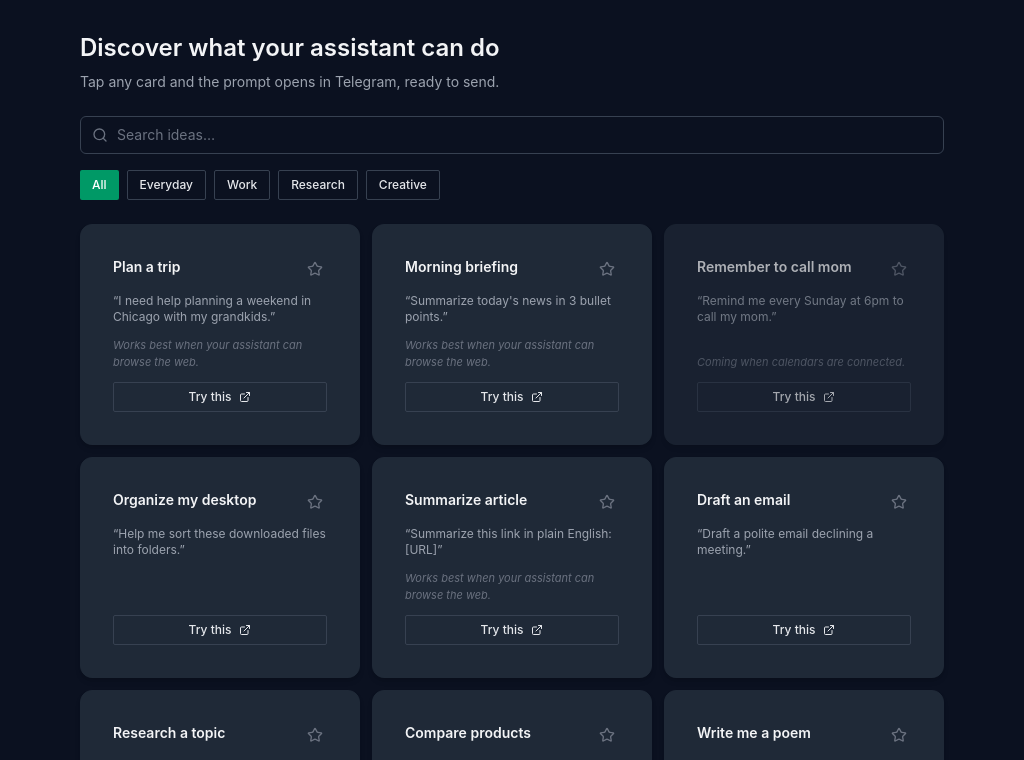
Scenario: Discover › a non-matching search shows the empty state
The image size is (1024, 760).
Type "zzz-no-such-idea-zzz" into the search field labelled "Search ideas…" at point(512, 135), box [80,116,944,154]
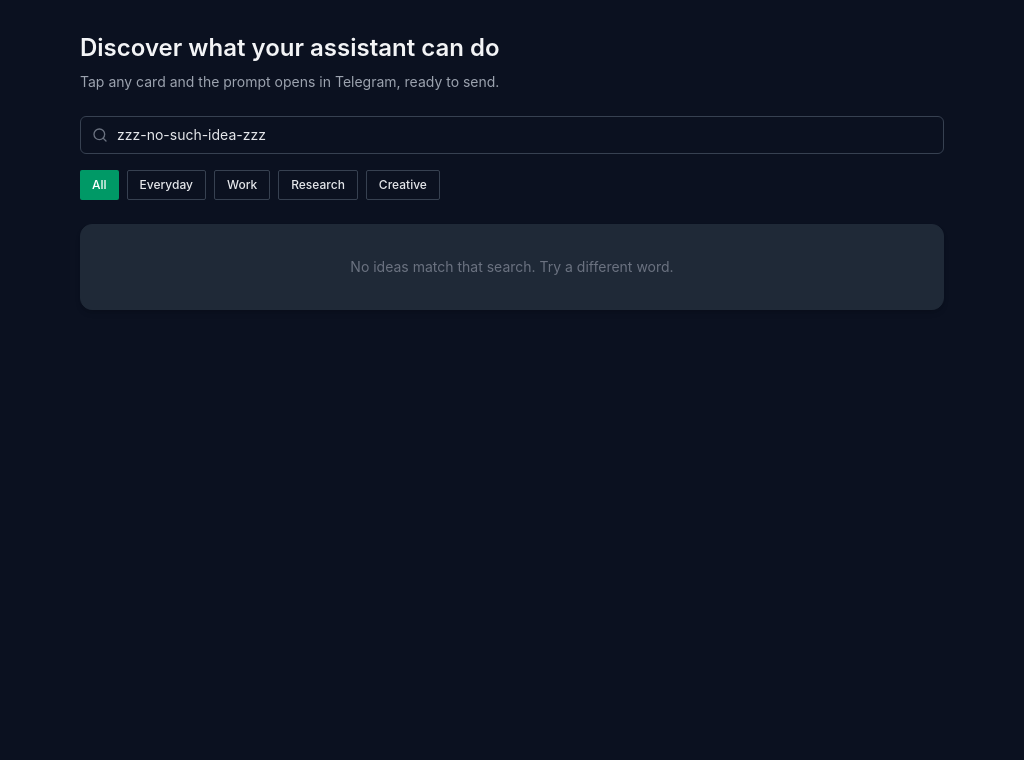
Expected: the text "No ideas match that search. Try a different word." is shown, [80,224,944,310]
